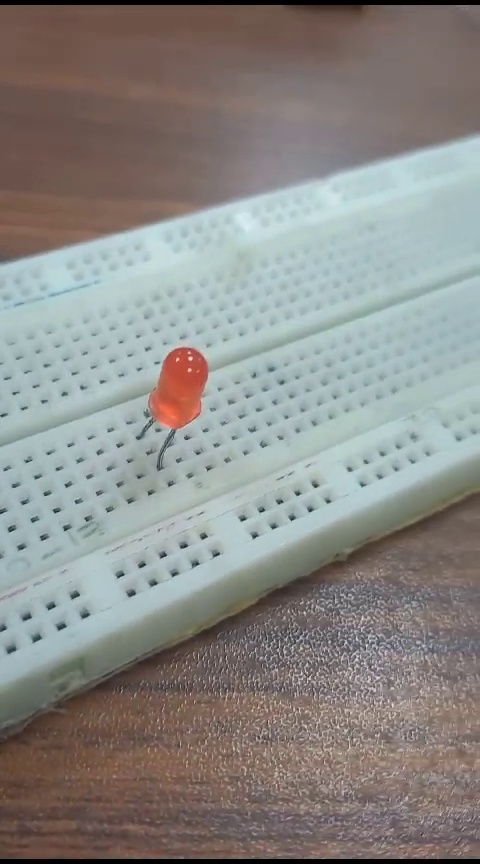LED: (143, 340, 211, 472)
